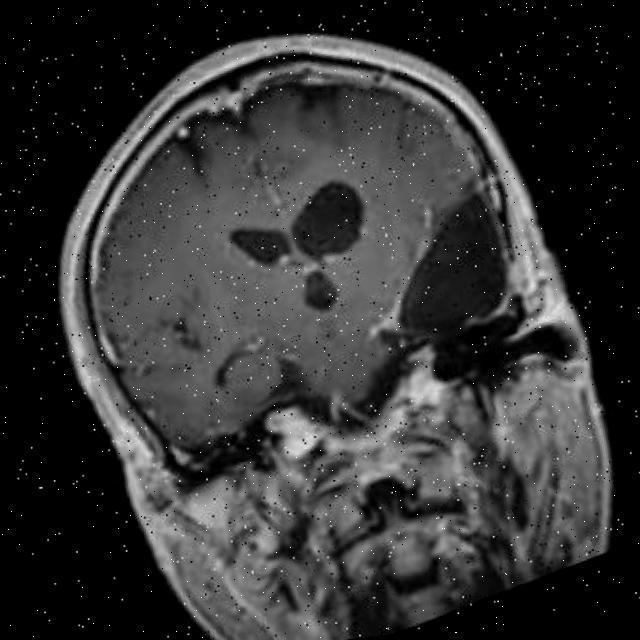EMCI: (350, 182, 616, 404)
